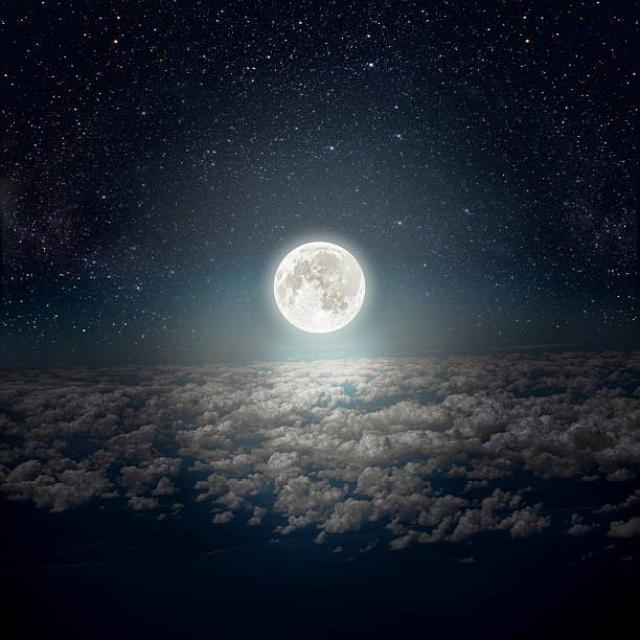moon: (268, 240, 366, 332)
